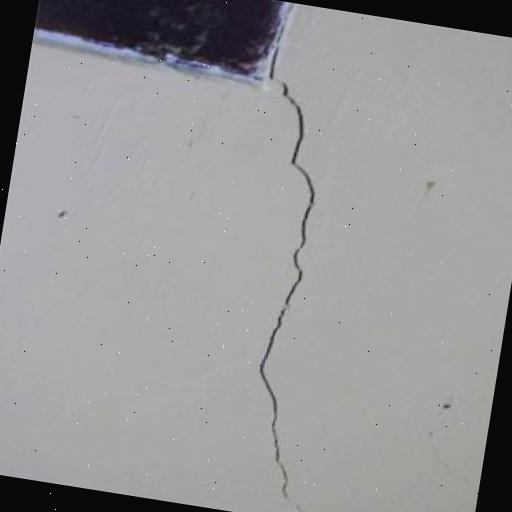spalling: (247, 75, 324, 512)
